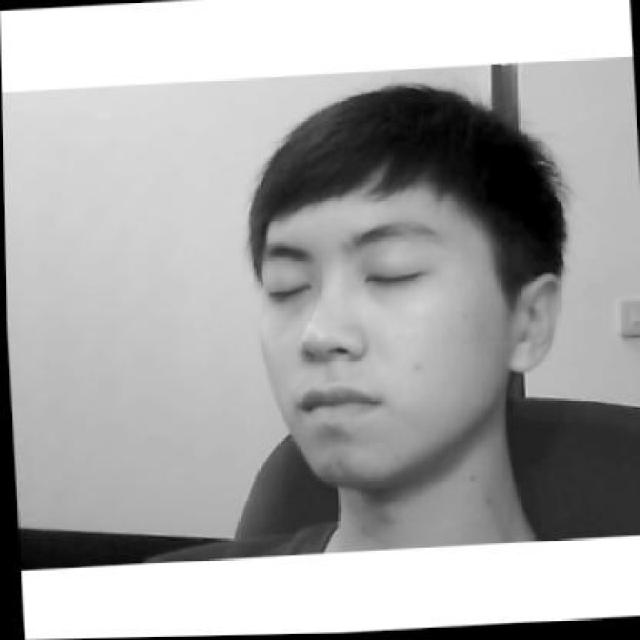inattentif: (237, 77, 569, 497)
